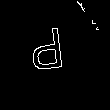P_S: (35, 28, 75, 82)
